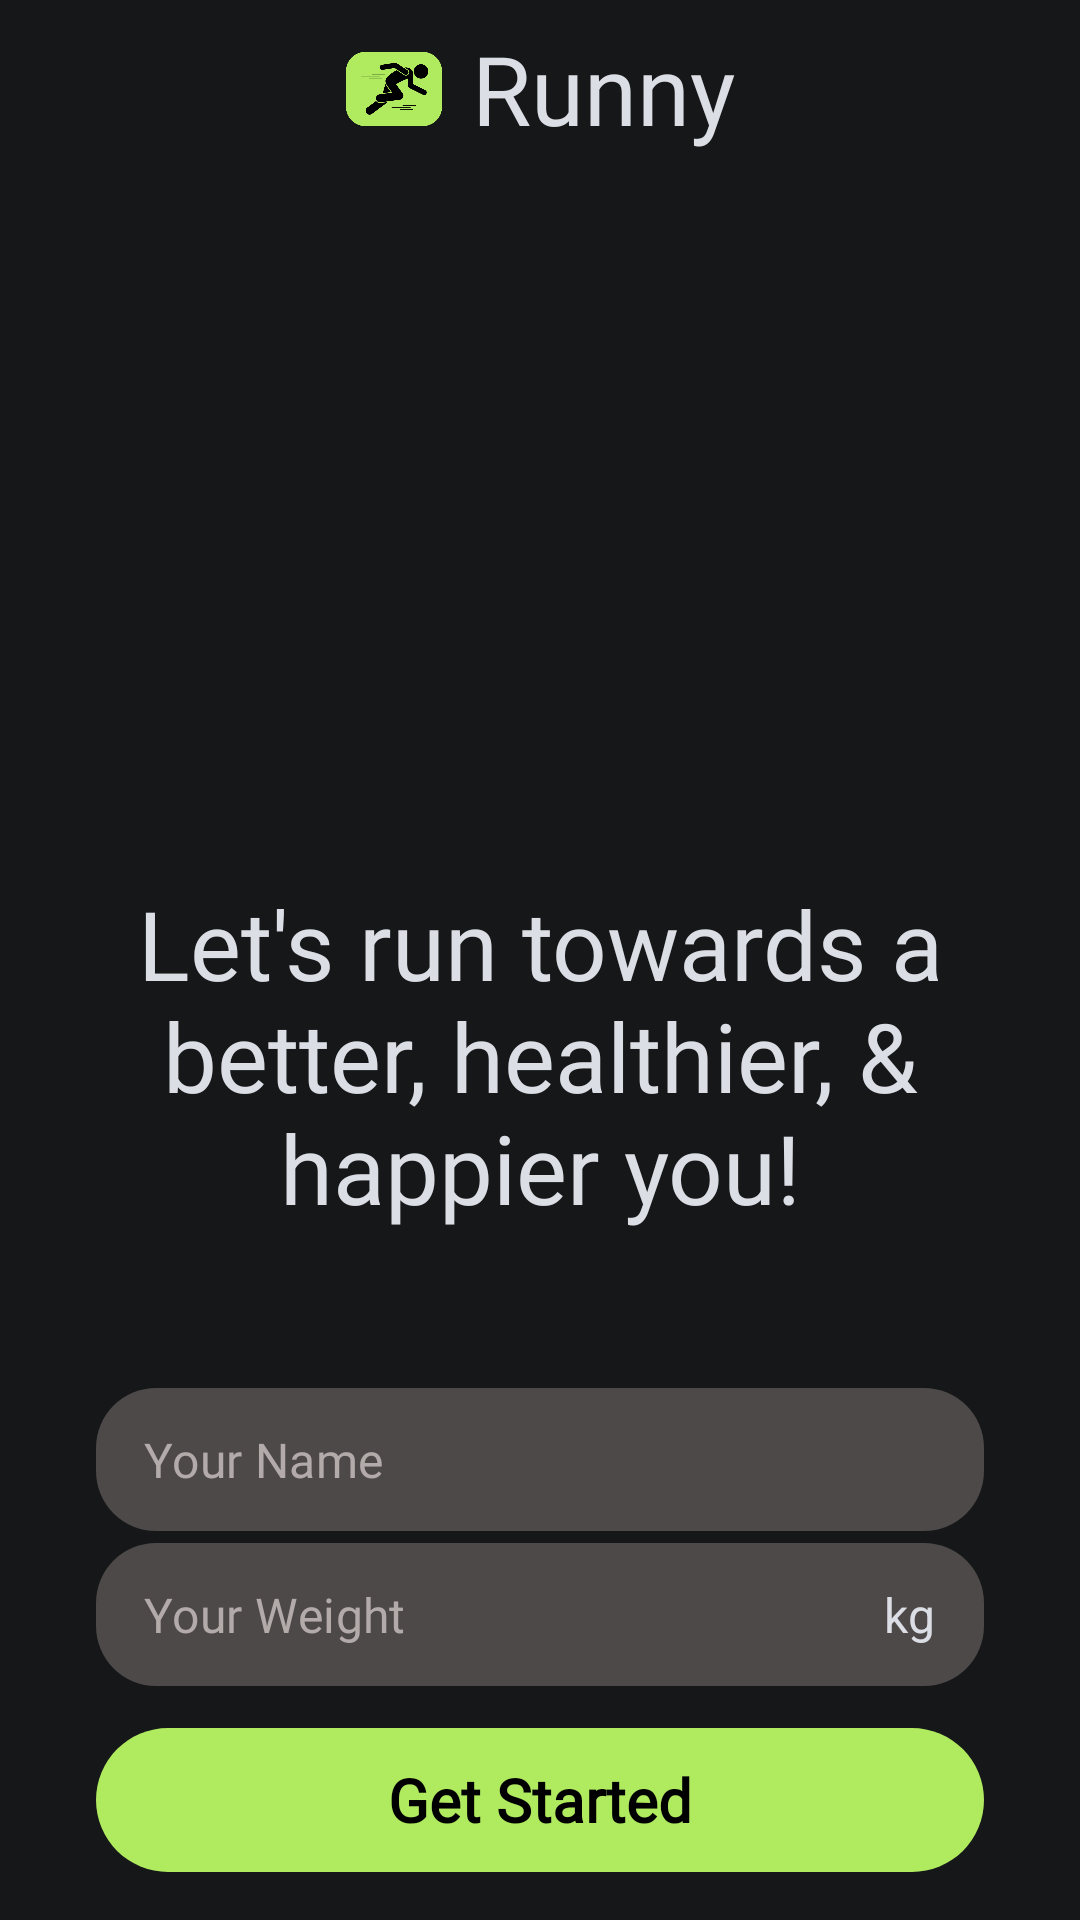

Named icons in this screenshot (1080w x 1920h) and their bounding boxes, (x1, y1, x2, y2):
speed: (346, 52, 442, 126)
